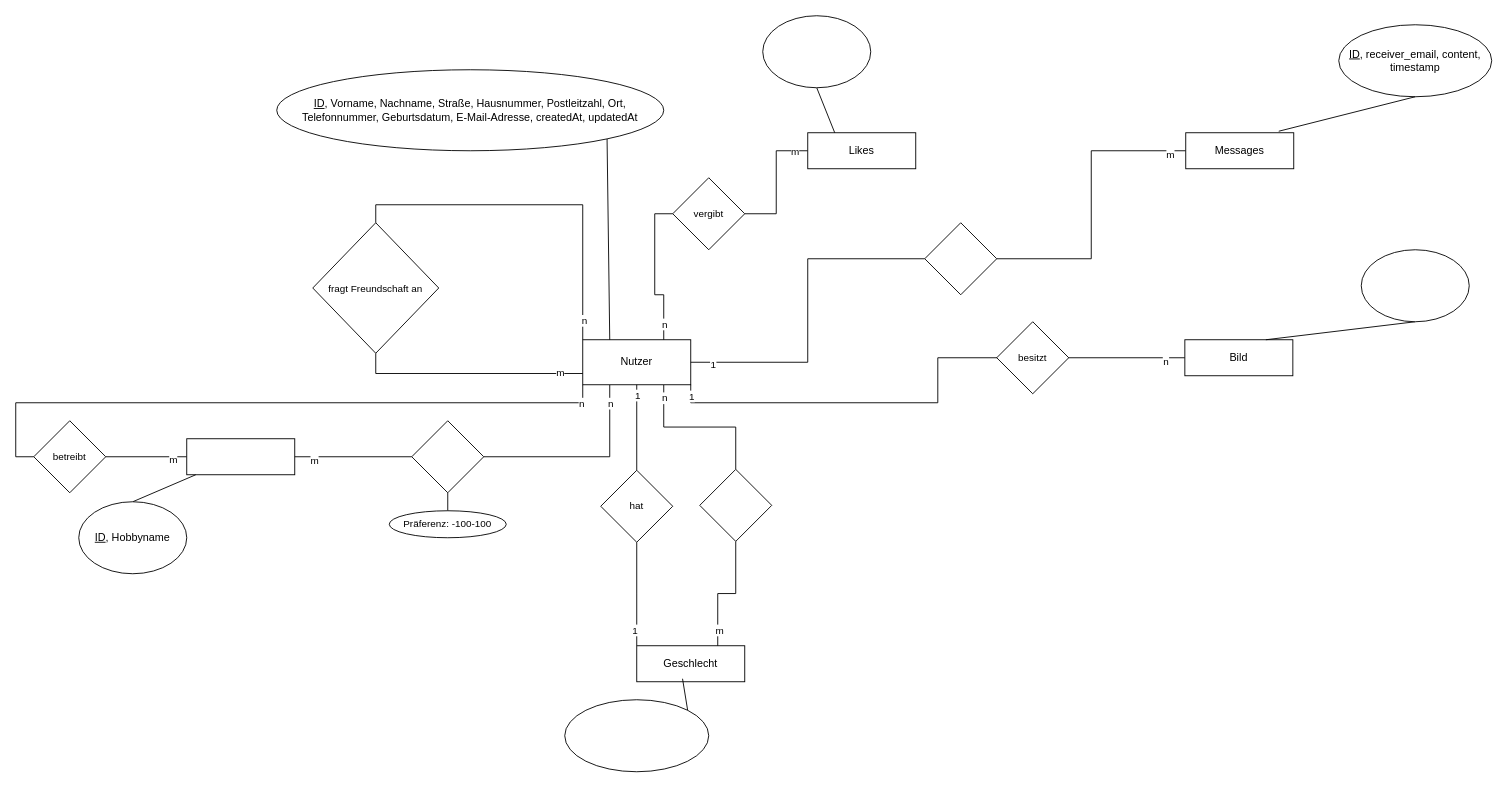
The diagram is 1508 pixels wide and 788 high, and some of its shapes have lost their labels. The box of each missing label's shape, as (x1, y1, x2, y2) in pixels:
bewertet: (411, 420, 484, 493)
Hobby: (186, 438, 295, 475)
ID , BLOB_Datei, istProfilbild, Link: (1360, 249, 1469, 322)
ID , Geschelechtsidentitäten: (564, 699, 709, 772)
ID , liked_email, status, timestamp: (762, 15, 871, 88)
interessiert an: (699, 468, 772, 541)
sendet: (924, 222, 997, 295)
